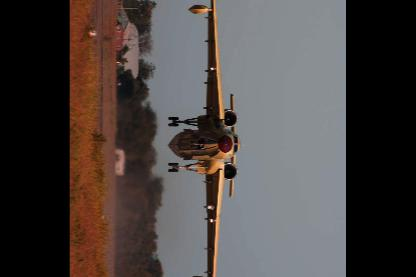B52: (166, 0, 245, 276)
